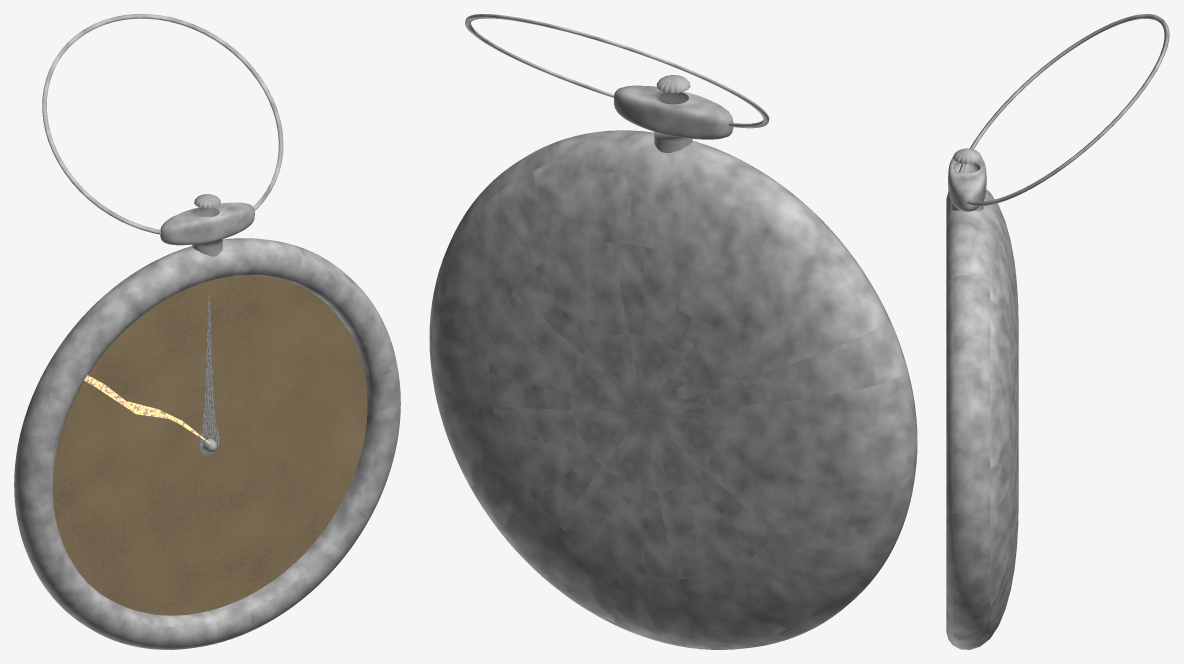
Rendered from pocketWatch.fbx.
3 renders of one model, left to right at view 1: azimuth 30°, elevation 25°; view 2: azimuth 150°, elevation 25°; view 3: azimuth 270°, elevation 25°, orthographic. The views are drawn at different scales.
Visible parts, largest first — view 1: plate, body, hand, crack; view 2: body; view 3: body.
Boxes of the visible parts, <box> form: plate: <box>53,275,367,615</box>; body: <box>14,14,400,649</box>; hand: <box>199,293,219,455</box>; crack: <box>84,375,213,445</box>; body: <box>429,14,917,649</box>; body: <box>946,14,1169,649</box>.
Size of the model in its own units: 1.97 by 2.75 by 0.9351.
